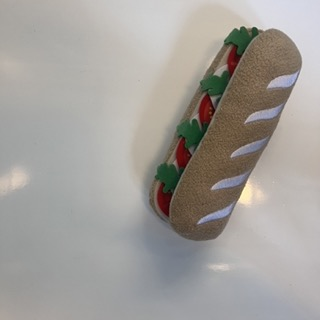sandwich: (148, 26, 301, 242)
